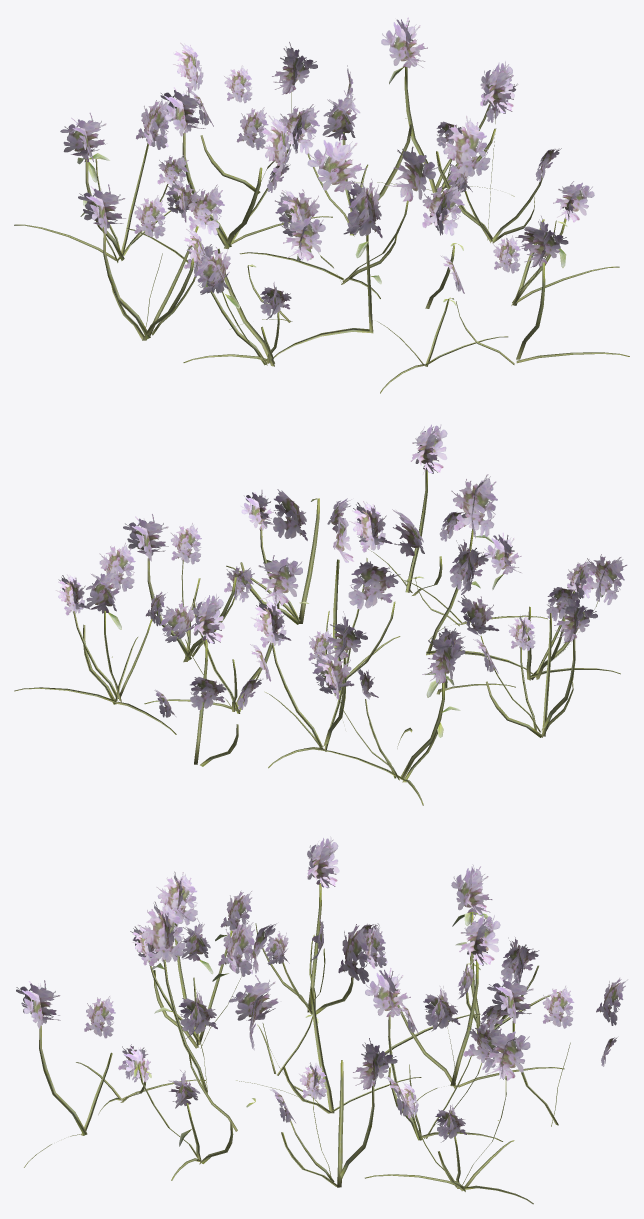
The model's file is flower_pink_lod0.glb.
3 views of the same model, one above another, from view 1: azimuth 30°, elevation 25°; view 2: azimuth 150°, elevation 25°; view 3: azimuth 270°, elevation 25° (orthographic). The views are drawn at different scales.
Visible parts, largest first — view 1: bq_Flower_Thymus-serpyllum_C_summer; view 2: bq_Flower_Thymus-serpyllum_C_summer; view 3: bq_Flower_Thymus-serpyllum_C_summer.
Boxes of the visible parts, x1,y1,x2,y2 form: bq_Flower_Thymus-serpyllum_C_summer: (14,17,629,393); bq_Flower_Thymus-serpyllum_C_summer: (14,424,627,805); bq_Flower_Thymus-serpyllum_C_summer: (16,836,627,1204).
Bounding box in the file's own units: 0.3004 × 0.108 × 0.3263.
2 materials, 2 textured.
